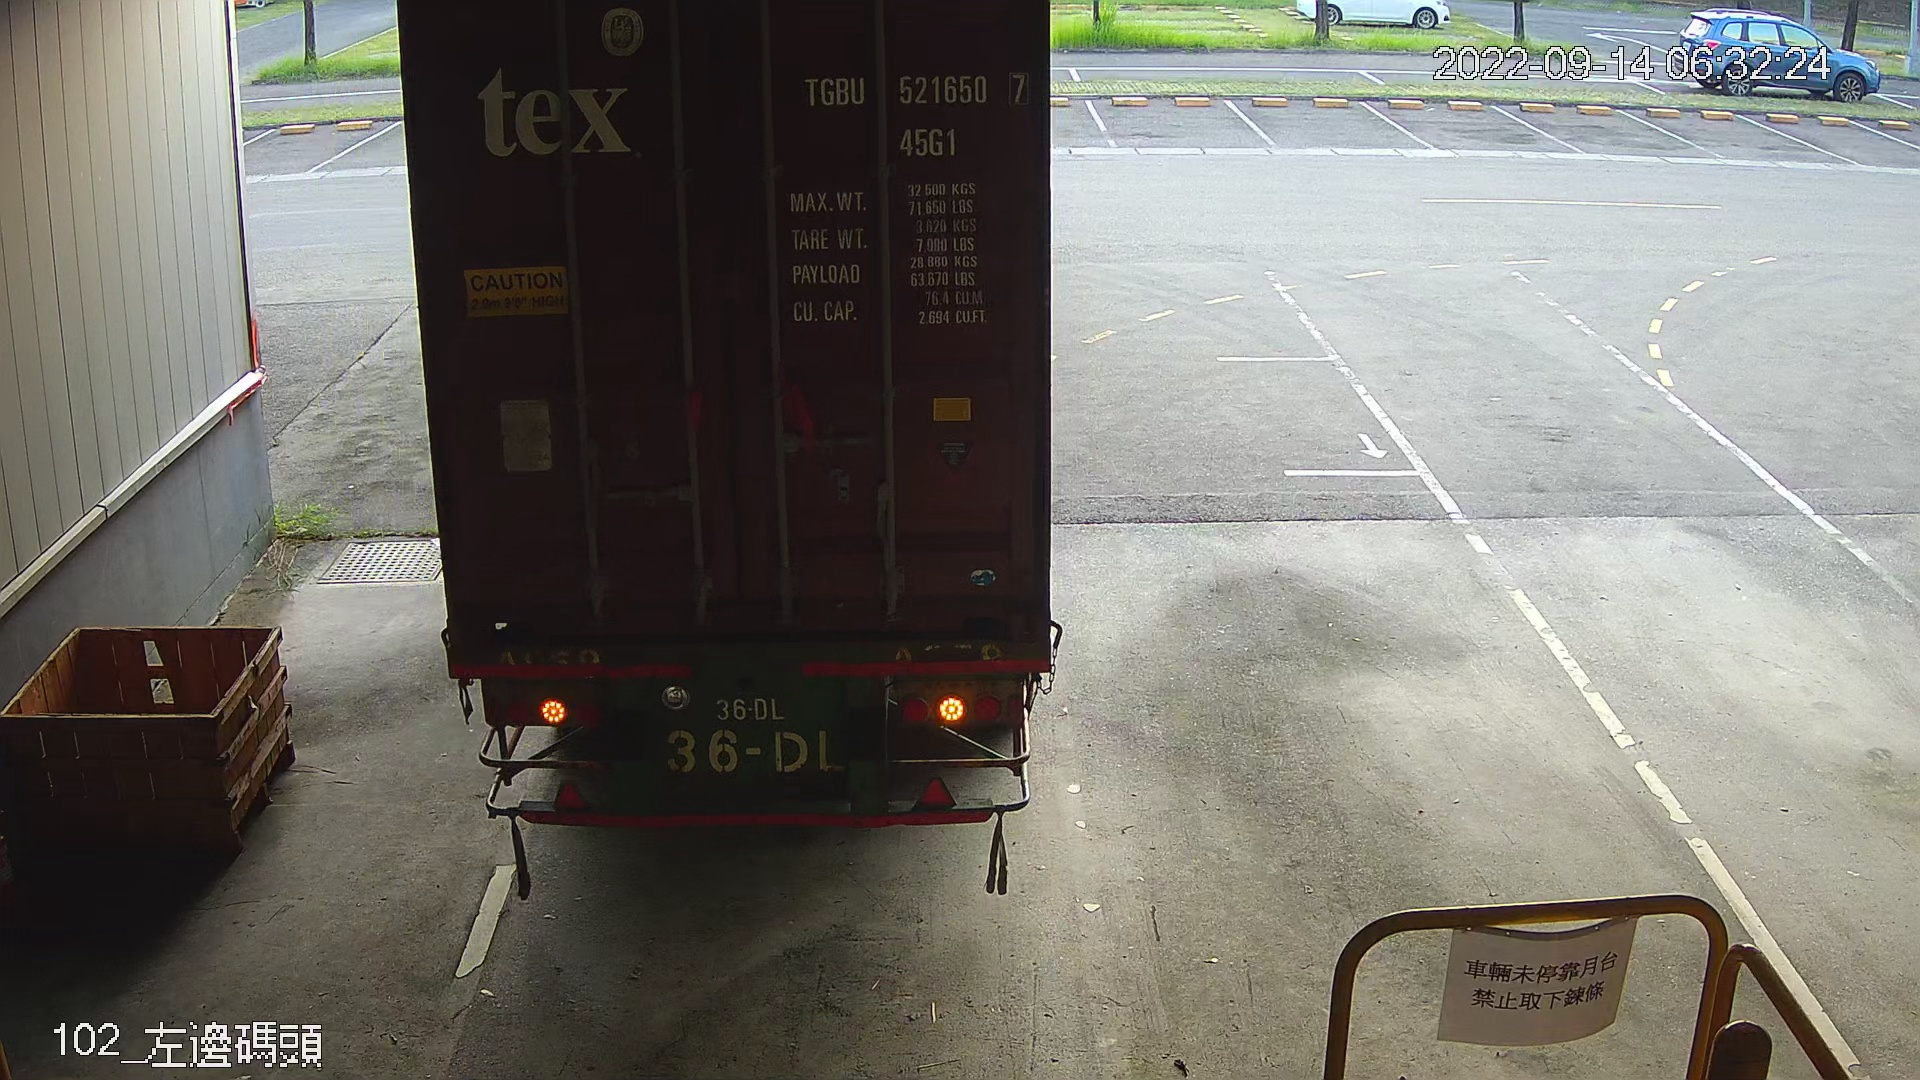container: (794, 61, 1038, 166)
